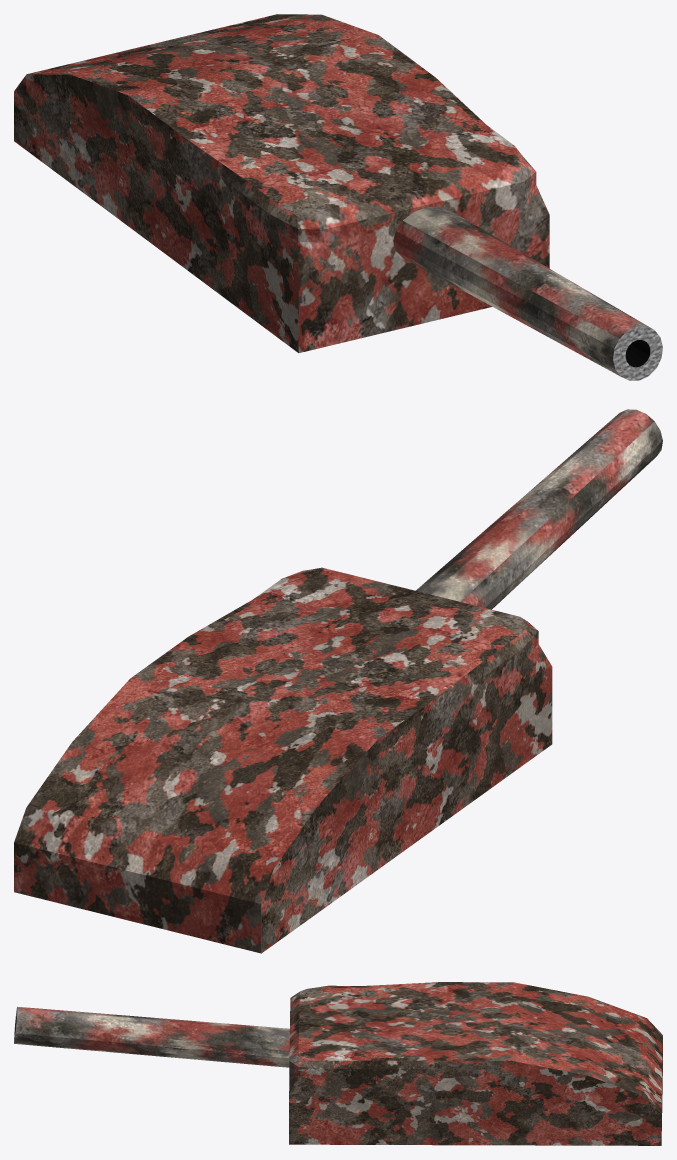
Rendered from Rturret.dae.
3 views of the same model, one above another, from view 1: azimuth 30°, elevation 25°; view 2: azimuth 150°, elevation 25°; view 3: azimuth 270°, elevation 25° (orthographic). The views are drawn at different scales.
Visible parts, largest first — view 1: Turret-0; view 2: Turret-0; view 3: Turret-0.
Part boxes in pixels (<box>): Turret-0: <box>14,14,662,380</box>; Turret-0: <box>14,409,662,953</box>; Turret-0: <box>14,982,662,1145</box>.
Bounding box in the file's own units: 1.02 × 0.5766 × 3.48.
